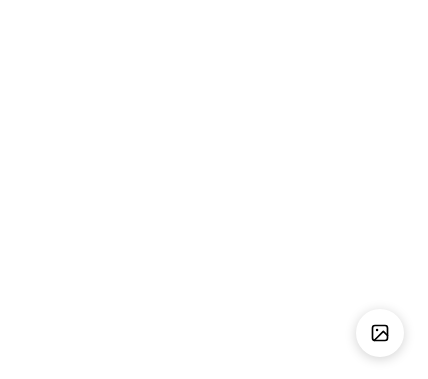
Scenario: ImageChatPopup › closes popup when close button is clicked
Click the button named "upload image" at (380, 333), box [356,309,404,357]
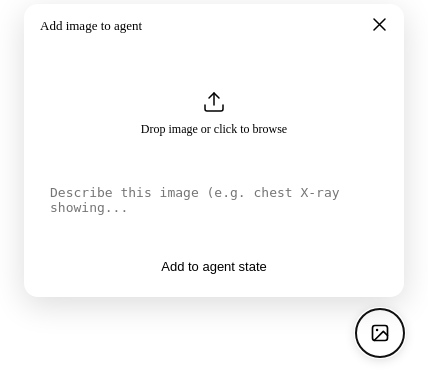
Check: the text "Add image to agent" is shown, box [40,18,142,34]
Click the button named "close" at (380, 26), box [371,16,388,36]
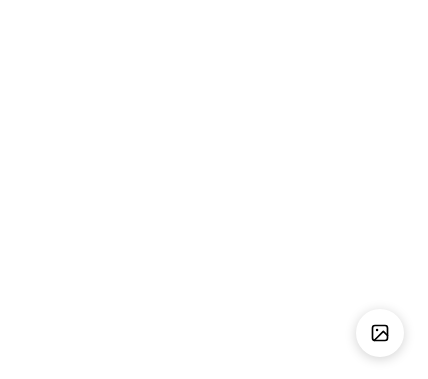
Check: the text "Add image to agent" is gone
